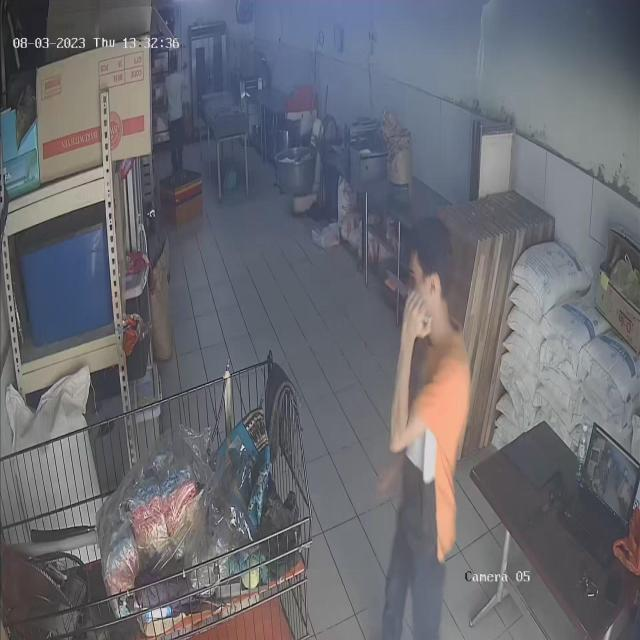Knife: (382, 258, 426, 318)
